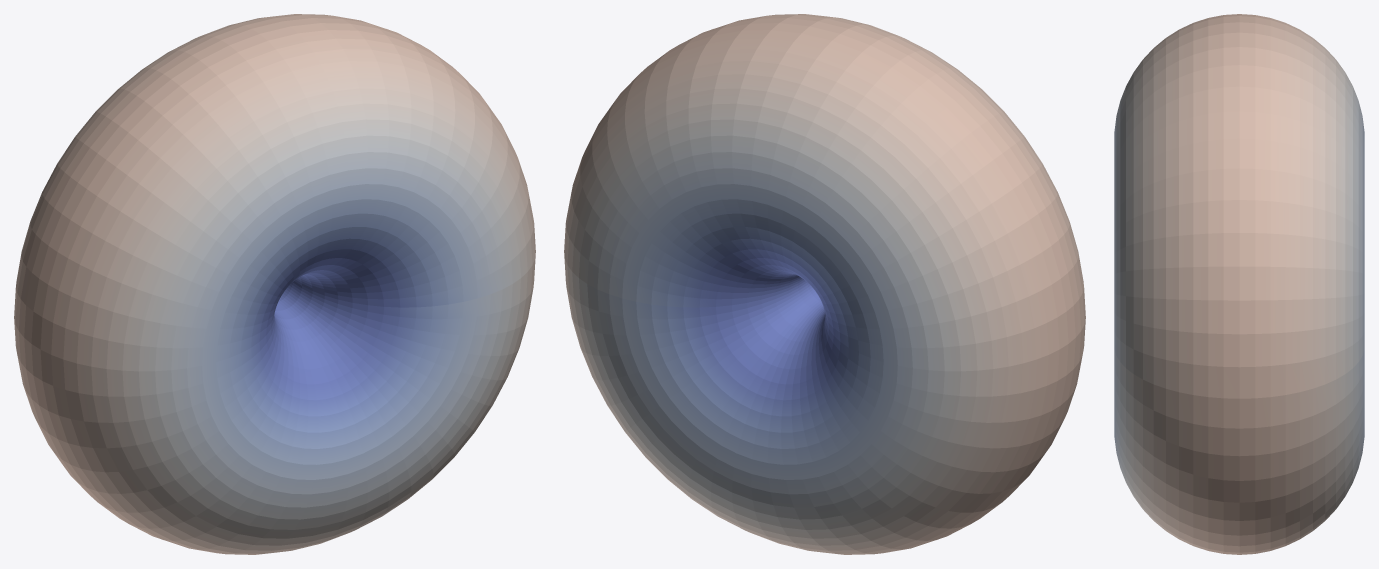
The picture shows the model from 3 angles, left to right: view 1: azimuth 30°, elevation 25°; view 2: azimuth 150°, elevation 25°; view 3: azimuth 270°, elevation 25°; orthographic projection. The views are drawn at different scales.
Visible parts, largest first — view 1: world; view 2: world; view 3: world.
Boxes of the visible parts, x1,y1,x2,y2 form: world: (14,14,535,554); world: (564,14,1085,554); world: (1114,14,1364,554).
Bounding box in the file's own units: 19.87 × 19.83 × 9.18.
